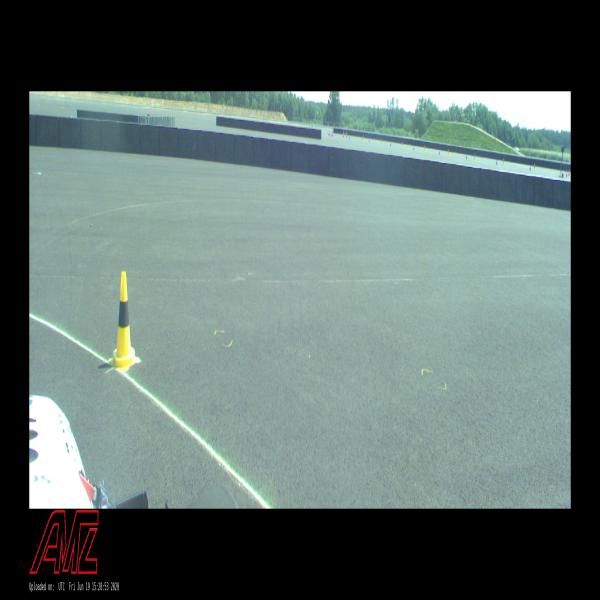yellow_cone: (110, 271, 138, 370)
